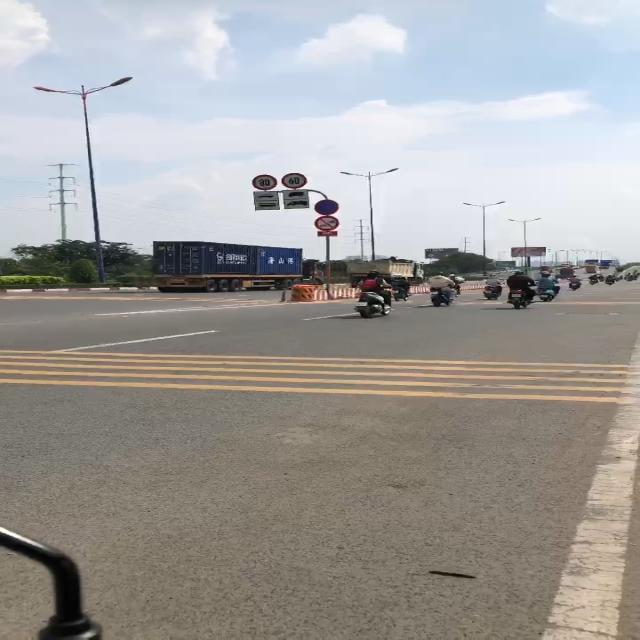Bien bao toc do toi da cho phep: (279, 172, 309, 190), (250, 173, 278, 190)
